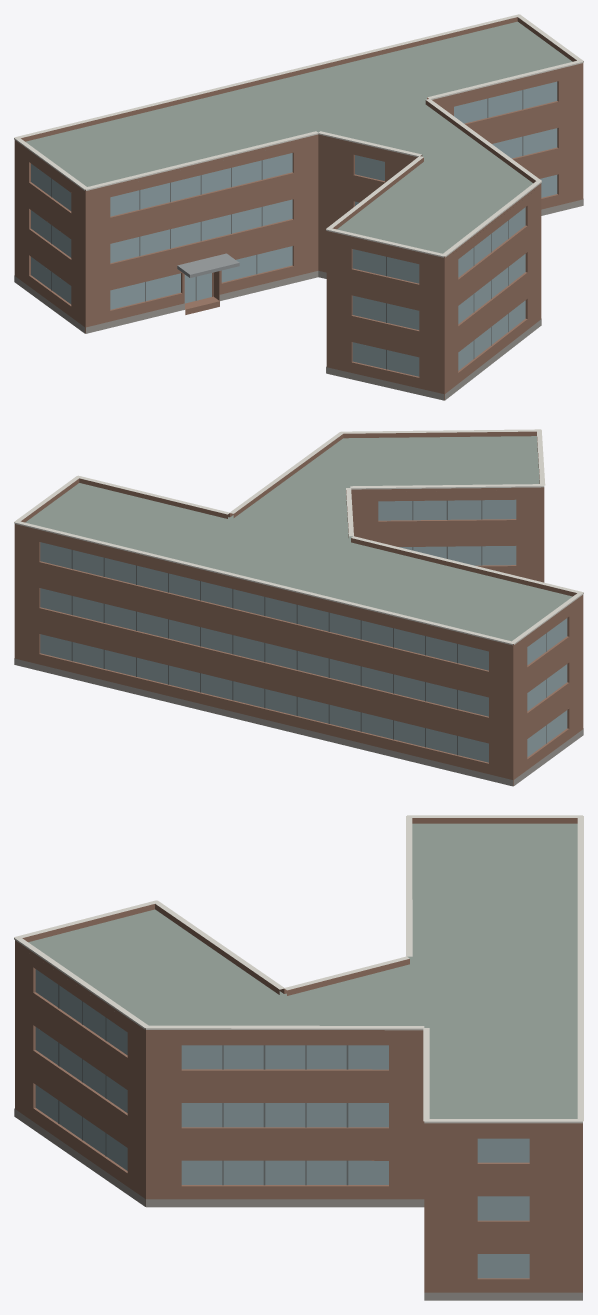
The picture shows the model from 3 angles, top to bottom: view 1: azimuth 30°, elevation 25°; view 2: azimuth 150°, elevation 25°; view 3: azimuth 270°, elevation 25°; orthographic projection. The views are drawn at different scales.
Visible parts, largest first — view 1: b117912026__wall, b117912026__roof, b117912026__glass, b117912026__trim, b117912026__parapet, b117912026__base, b117912026__frame, b117912026__canopy; view 2: b117912026__wall, b117912026__roof, b117912026__glass, b117912026__trim, b117912026__parapet, b117912026__base, b117912026__frame; view 3: b117912026__roof, b117912026__wall, b117912026__glass, b117912026__trim, b117912026__parapet, b117912026__base, b117912026__frame.
Part boxes in pixels (x1,y1,x2,y2): b117912026__wall: (14, 66, 583, 400); b117912026__roof: (25, 21, 572, 400); b117912026__glass: (31, 81, 557, 376); b117912026__trim: (14, 14, 583, 257); b117912026__parapet: (14, 17, 583, 260); b117912026__base: (14, 199, 583, 400); b117912026__frame: (51, 90, 523, 369); b117912026__canopy: (177, 253, 239, 277); b117912026__wall: (14, 490, 583, 785); b117912026__roof: (25, 436, 572, 786); b117912026__glass: (40, 499, 567, 762); b117912026__trim: (14, 429, 583, 645); b117912026__parapet: (14, 431, 583, 647); b117912026__base: (14, 658, 583, 786); b117912026__frame: (71, 500, 546, 755); b117912026__roof: (28, 823, 577, 1118); b117912026__wall: (15, 943, 582, 1292); b117912026__glass: (35, 969, 529, 1278); b117912026__trim: (14, 815, 583, 1123); b117912026__parapet: (15, 818, 582, 1126); b117912026__base: (14, 1108, 582, 1300); b117912026__frame: (58, 985, 348, 1185).
Bounding box in the file's own units: 40.94 × 11.55 × 32.19.
